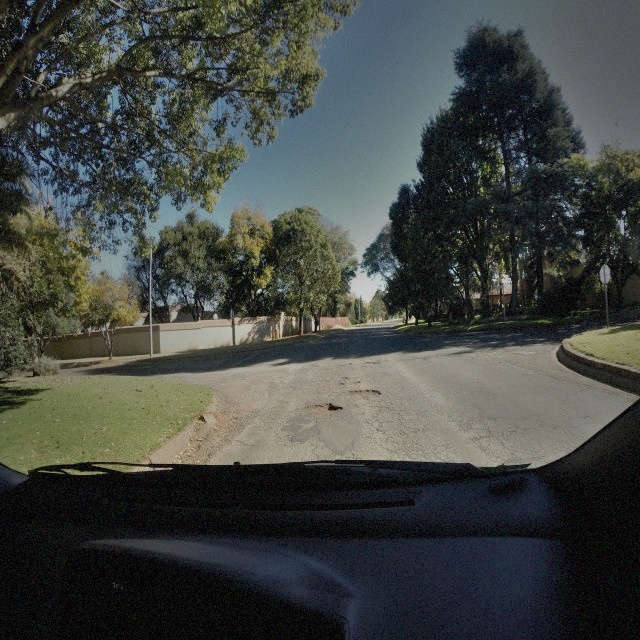pothole: (304, 402, 343, 417), (346, 388, 382, 400), (362, 360, 381, 366), (338, 376, 347, 386)
